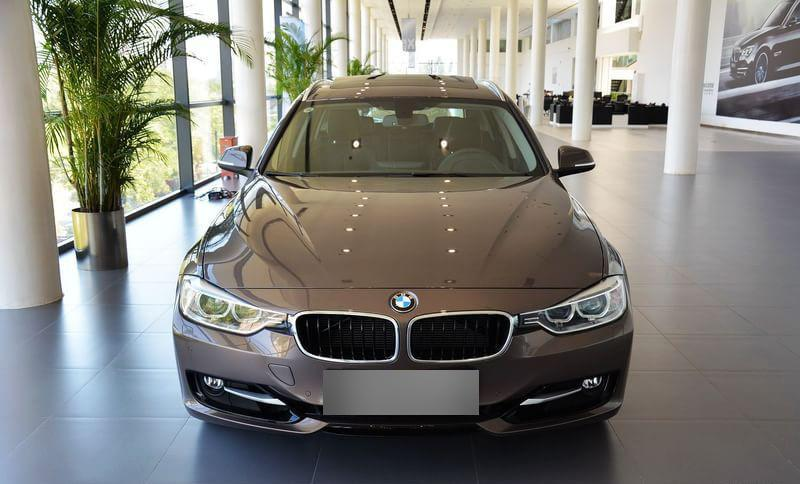Wagon: (170, 71, 637, 439)
